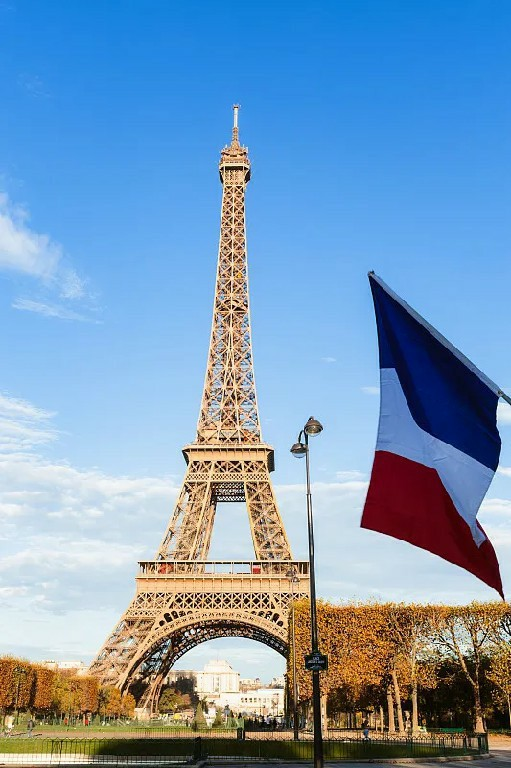Eiffel: (86, 104, 313, 701)
